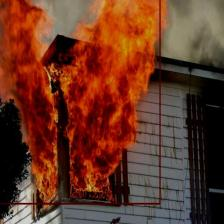fire: (0, 0, 160, 204)
